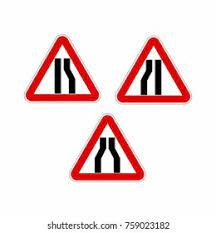narrow-road: (116, 36, 190, 103), (70, 114, 144, 180), (27, 34, 98, 99)
